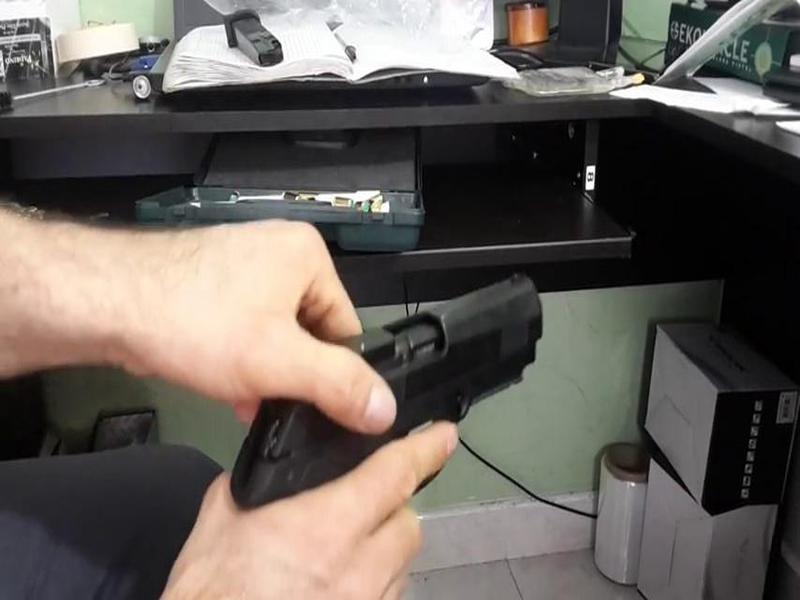Pistola: (200, 257, 583, 533)
